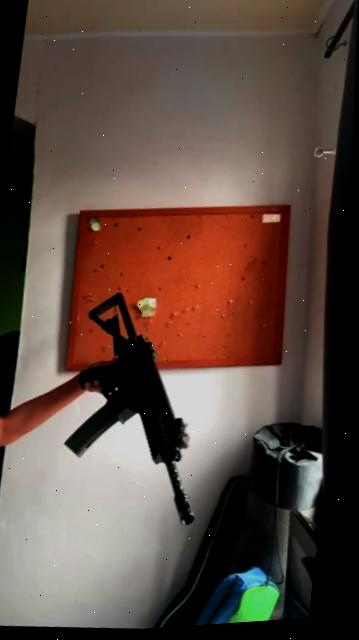rifle: (46, 266, 224, 544)
